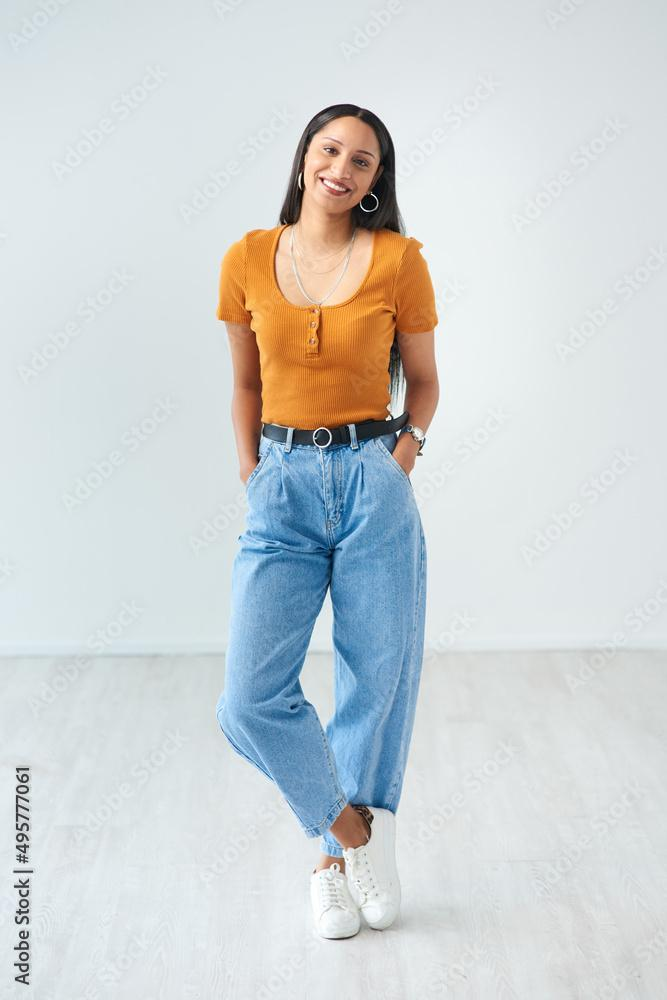Human: (224, 88, 448, 925)
